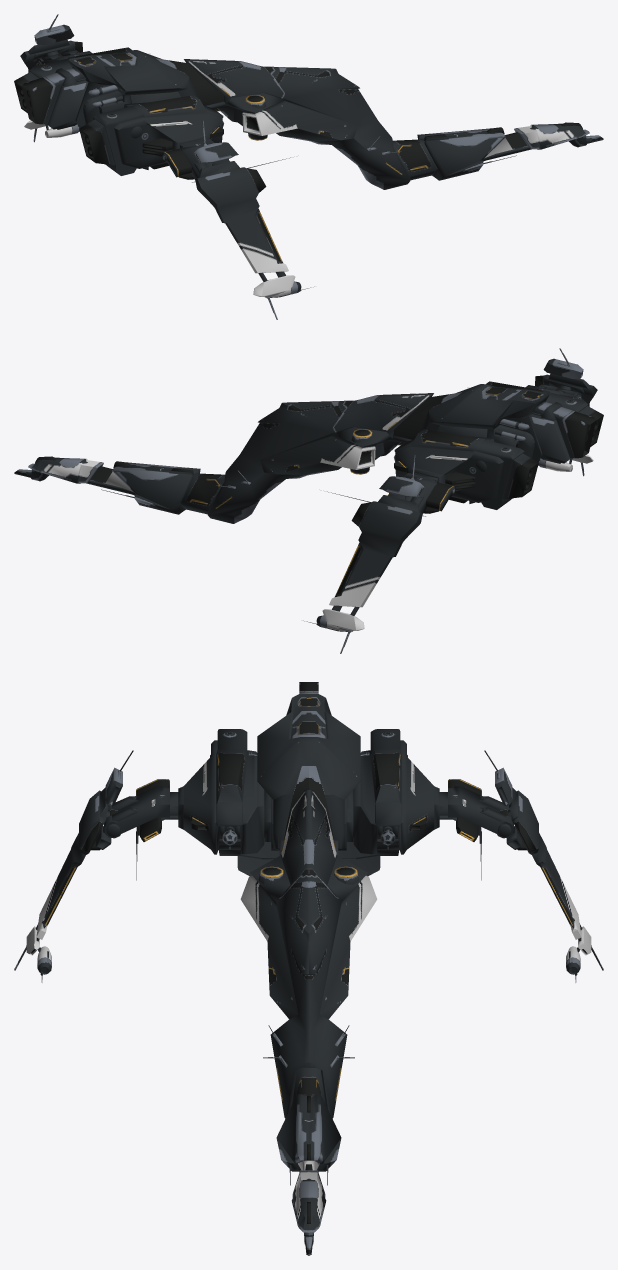
The model's file is caracal.glb.
3 renders of one model, top to bottom at view 1: azimuth 30°, elevation 25°; view 2: azimuth 150°, elevation 25°; view 3: azimuth 270°, elevation 25°, orthographic. The views are drawn at different scales.
Parts seen in each view (by area): view 1: Caracal; view 2: Caracal; view 3: Caracal.
Boxes of the visible parts, x1=… form: Caracal: x1=14, y1=14, x2=603, y2=319; Caracal: x1=14, y1=348, x2=603, y2=653; Caracal: x1=14, y1=682, x2=603, y2=1255.
Size of the model in its own units: 436 by 149 by 318.
Materials: 1 (1 with a texture image).
